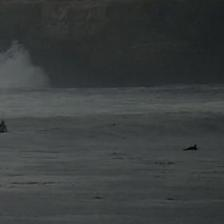surfer: (183, 144, 198, 151), (0, 120, 8, 132)
